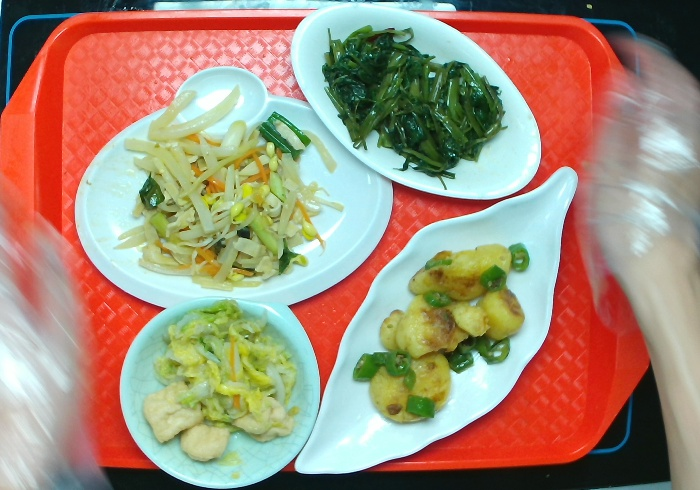RJxy-Bai_Se_Tuo_Yuan: (288, 2, 546, 203)
RJxy-Shu_Ye_Pan: (292, 161, 583, 479)
RJxy-Xiao_Jiao_Yuan_Wan: (118, 290, 325, 490)
RJxy-Zhan_Liao_Pan: (75, 62, 394, 312)
